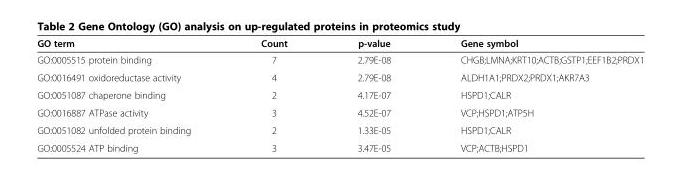table: (36, 37, 643, 153)
table column: (425, 37, 643, 153), (36, 37, 225, 153), (321, 37, 425, 153), (225, 37, 321, 153)
table column header: (36, 37, 643, 51)
table row: (36, 85, 643, 103), (36, 103, 643, 121), (36, 51, 643, 68), (36, 68, 643, 85), (36, 121, 643, 138), (36, 138, 643, 153), (36, 37, 643, 51)
